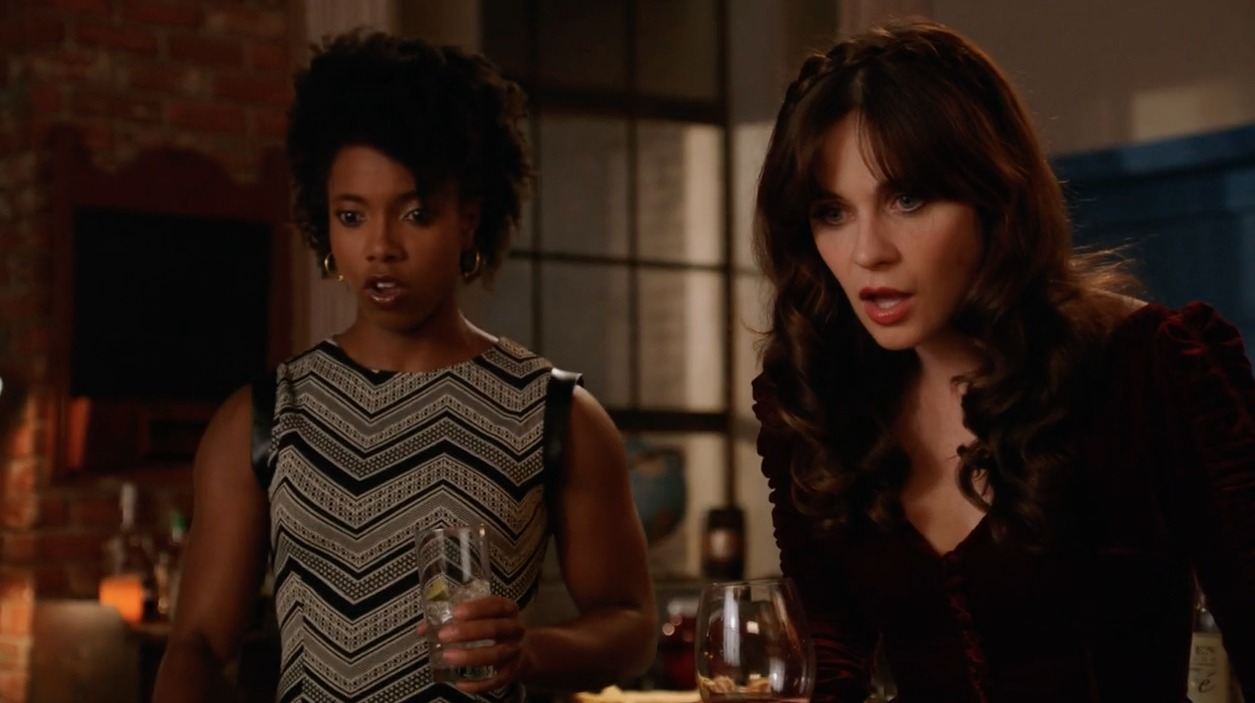person: (696, 23, 1255, 700), (126, 30, 660, 703)
